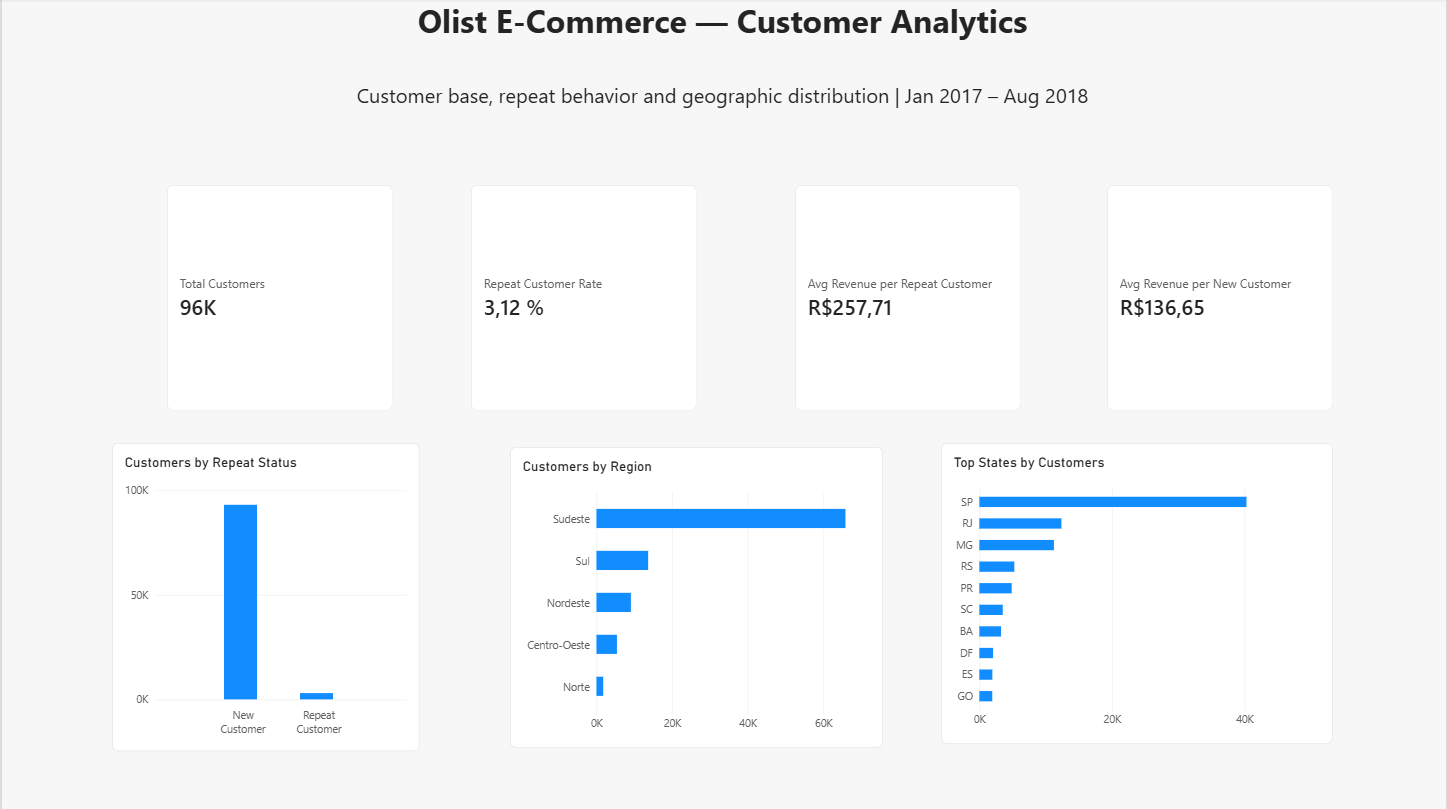

What the dashboard file says about the page in this screenshot:
{"tool":"powerbi","page":{"name":"Customer Analytics","canvas":[1920,1080],"ordinal":2},"visuals":[{"type":"cardVisual","fields":{"Data":["_Measures.Total Customers"]},"box":[219.5,248.7,300,300],"z":0},{"type":"cardVisual","fields":{"Data":["_Measures.Repeat Customer Rate"]},"box":[623.8,248.7,300,300],"z":1000},{"type":"cardVisual","fields":{"Data":["_Measures.Avg Revenue per Repeat Customer"]},"box":[1054.7,248.7,300,300],"z":2000},{"type":"cardVisual","fields":{"Data":["_Measures.Avg Revenue per New Customer"]},"box":[1469.7,248.7,300,300],"z":3000},{"type":"clusteredColumnChart","title":"Customers by Repeat Status","fields":{"Category":["analytics dim_customer.Customer Type"],"Y":["_Measures.Total Customers"]},"box":[146.3,591.9,408.5,410],"z":4000},{"type":"barChart","title":"Customers by Region","fields":{"Category":["analytics dim_geography.region"],"Y":["_Measures.Total Customers"]},"box":[675.7,597.2,496,399.8],"z":5000},{"type":"barChart","title":"Top States by Customers","fields":{"Category":["analytics dim_customer.state"],"Y":["_Measures.Total Customers"]},"box":[1248.9,591.9,520.9,399.8],"z":6000},{"type":"textbox","box":[146.3,0,1624,98.4],"z":7000},{"type":"textbox","box":[146.3,110.4,1624,138.3],"z":8000}]}

Visuals, with their boxes in screenshot pixels (x1, y1, x2, y2), scaled from the page's 1920x1080 canvas onto the 1447x809 screenshot:
cardVisual - _Measures.Total Customers: [165,186,392,411]
cardVisual - _Measures.Repeat Customer Rate: [470,186,696,411]
cardVisual - _Measures.Avg Revenue per Repeat Customer: [795,186,1021,411]
cardVisual - _Measures.Avg Revenue per New Customer: [1108,186,1334,411]
"Customers by Repeat Status" clusteredColumnChart: [110,443,418,750]
"Customers by Region" barChart: [509,447,883,747]
"Top States by Customers" barChart: [941,443,1334,743]
textbox: [110,0,1334,74]
textbox: [110,83,1334,186]
